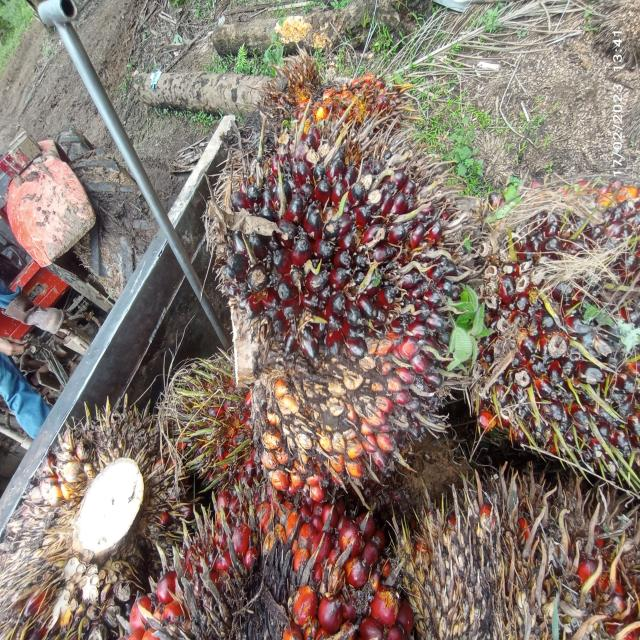fraksi 1: (214, 79, 468, 492), (451, 156, 640, 460)
fraksi 3: (106, 422, 439, 640)
